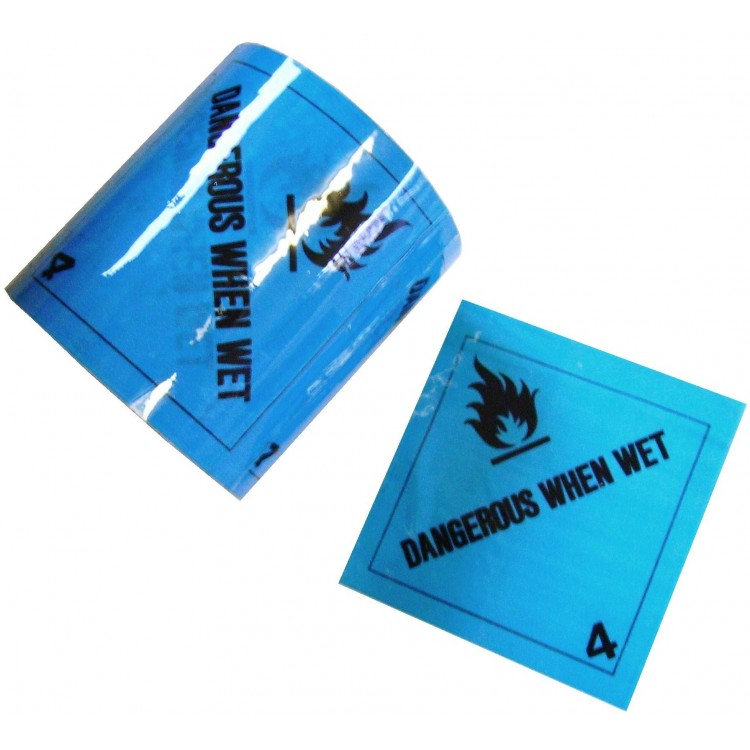DangerousWhenWet: (388, 317, 718, 702)
